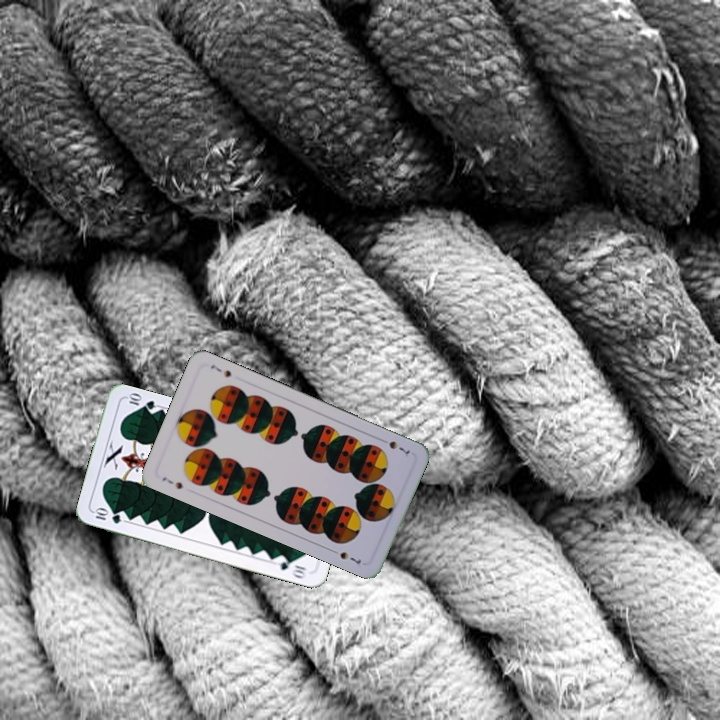G10: (90, 505, 124, 526)
S7: (376, 434, 412, 457), (158, 473, 185, 492)
